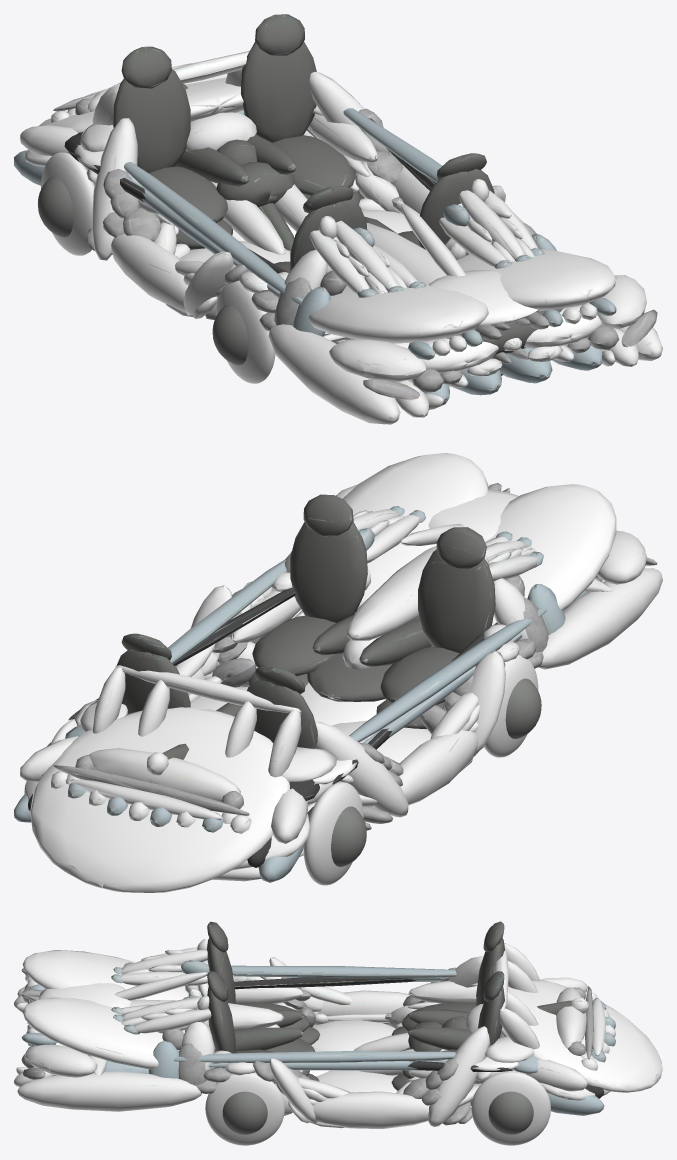
File: ZBR-OG2-v7.glb
3 views of the same model, one above another, from view 1: azimuth 30°, elevation 25°; view 2: azimuth 150°, elevation 25°; view 3: azimuth 270°, elevation 25° (orthographic). The views are drawn at different scales.
Visible parts, largest first — view 1: ZBR-OG, Merged Objects 15; view 2: ZBR-OG, Merged Objects 15; view 3: ZBR-OG, Merged Objects 15.
Boxes of the visible parts, <box> form: ZBR-OG: <box>14,14,662,424</box>; Merged Objects 15: <box>37,129,316,383</box>; ZBR-OG: <box>14,453,662,892</box>; Merged Objects 15: <box>47,638,541,885</box>; ZBR-OG: <box>14,921,662,1128</box>; Merged Objects 15: <box>205,998,550,1145</box>.
Bounding box in the file's own units: 1.92 × 1.11 × 4.43.
Materials: 2 (2 with a texture image).
